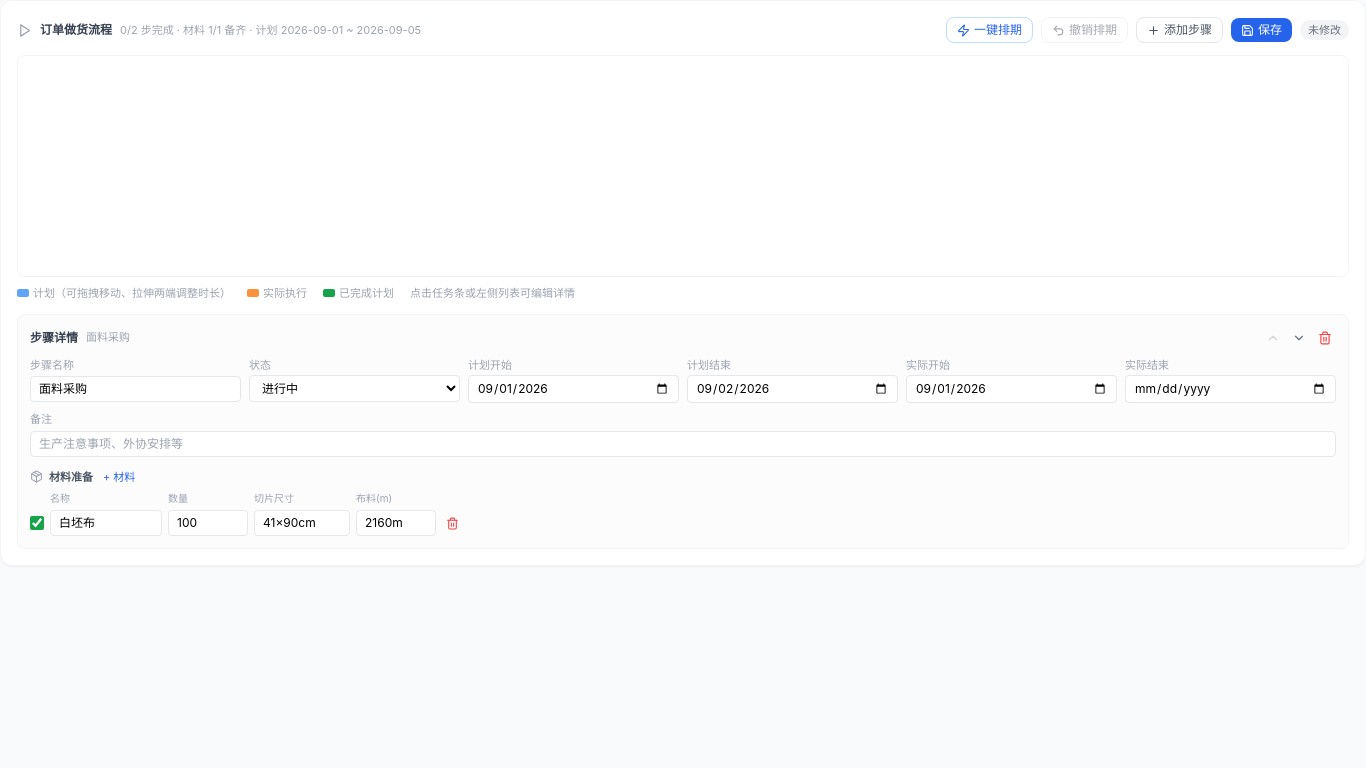
订单做货流程标签页 › 任务详情编辑 › 删除步骤后详情区关闭
The width and height of the screenshot is (1366, 768).
Expected: the text "计划（可拖拽移动、拉伸两端调整时长）" is shown, 17,285 -> 231,302
Click the button titled "删除步骤".
click(1325, 338)  # box 1314,326 -> 1336,348
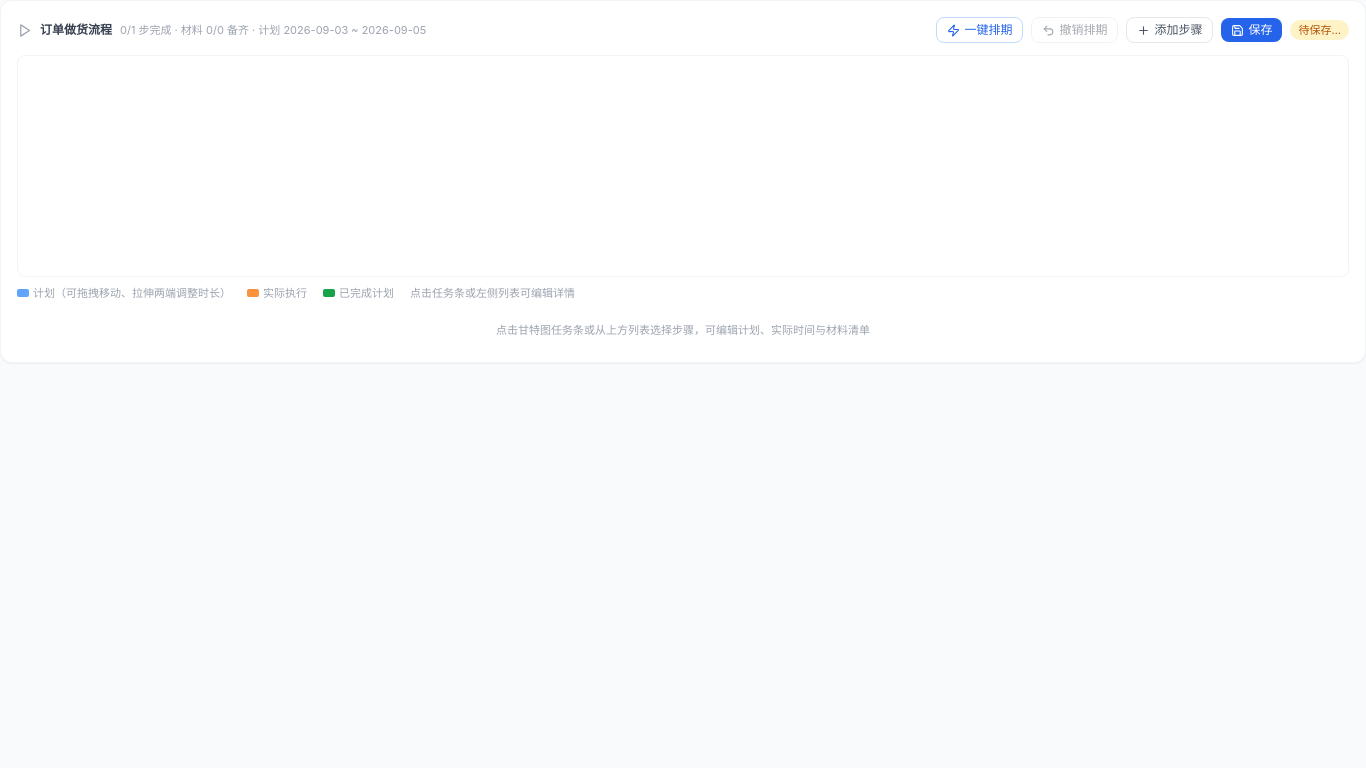
Expected: the text "步骤详情" is gone
Expected: the text "0/1 步完成 · 材料 0/0 备齐 · 计划 2026-09-03 ~ 2026-09-05" is shown, 120,22 -> 426,38
